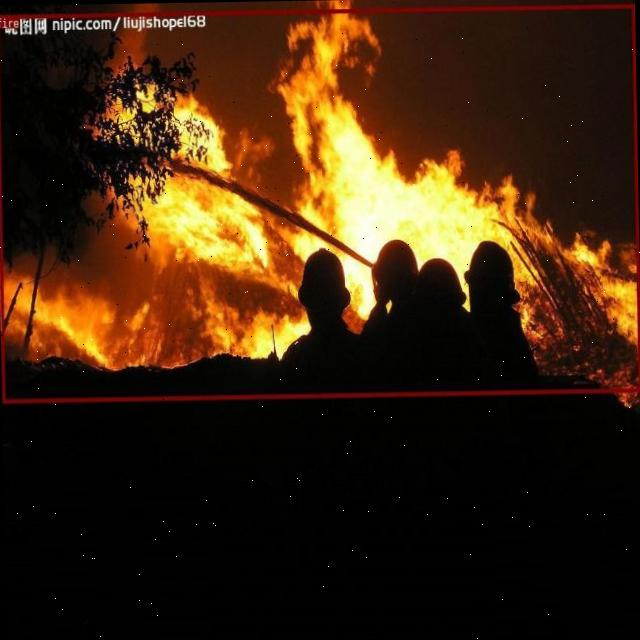fire: (0, 2, 640, 401)
